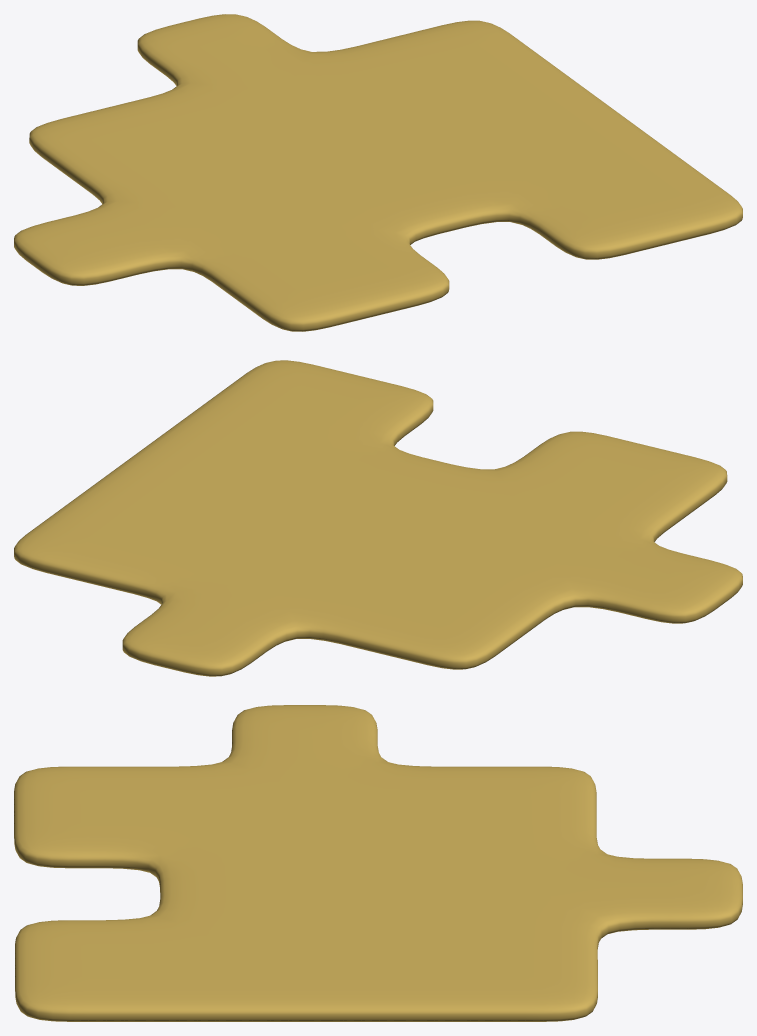
Rendered from GoldenPuzzle-10-OFMM.fbx.
3 views of the same model, one above another, from view 1: azimuth 30°, elevation 25°; view 2: azimuth 150°, elevation 25°; view 3: azimuth 270°, elevation 25° (orthographic). The views are drawn at different scales.
Visible parts, largest first — view 1: Puzzle_010; view 2: Puzzle_010; view 3: Puzzle_010.
Part boxes in pixels (x1,y1,x2,y2): Puzzle_010: (14,14,742,331); Puzzle_010: (14,360,742,676); Puzzle_010: (14,705,742,1021).
Bounding box in the file's own units: 0.3125 × 0.00924 × 0.3133.
